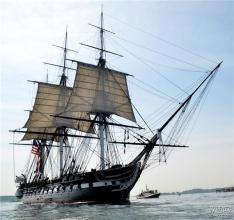fanchuan: (5, 14, 220, 203)
